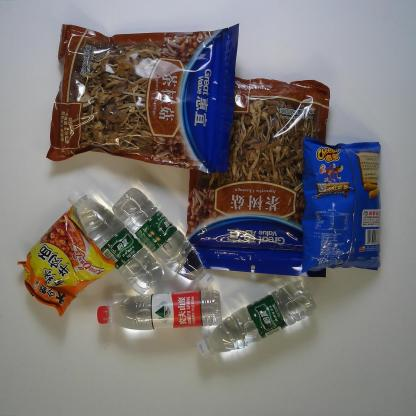Dried Food: (176, 69, 336, 282), (40, 20, 240, 174)
Drink: (110, 185, 215, 290), (66, 188, 167, 296), (191, 278, 322, 358), (96, 286, 226, 334)
Instant Noodles: (14, 204, 119, 318)
Puffed Food: (300, 134, 382, 276)
